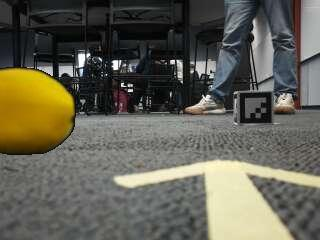lemon: (0, 68, 74, 154)
